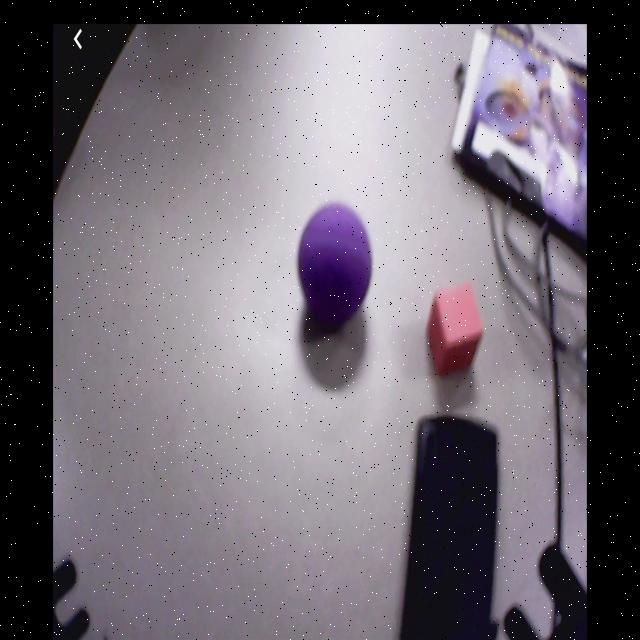ball: (298, 205, 371, 313)
